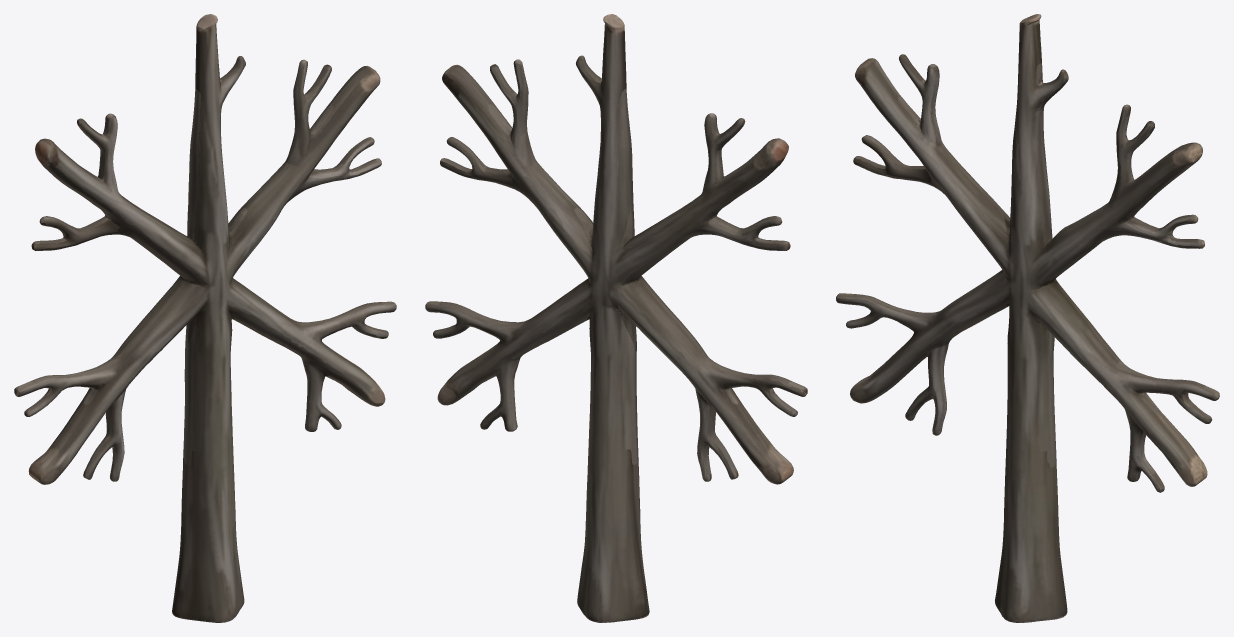
File: dead_tree.glb
The picture shows the model from 3 angles, left to right: view 1: azimuth 30°, elevation 25°; view 2: azimuth 150°, elevation 25°; view 3: azimuth 330°, elevation 25°; orthographic projection.
Visible parts, largest first — view 1: geometry_0; view 2: geometry_0; view 3: geometry_0.
Boxes of the visible parts, bbox=[...] form: geometry_0: bbox=[14, 14, 396, 622]; geometry_0: bbox=[425, 14, 807, 622]; geometry_0: bbox=[836, 14, 1219, 622].
Size of the model in its own units: 1.8 by 2.67 by 0.3199.
Materials: 1 (1 with a texture image).
